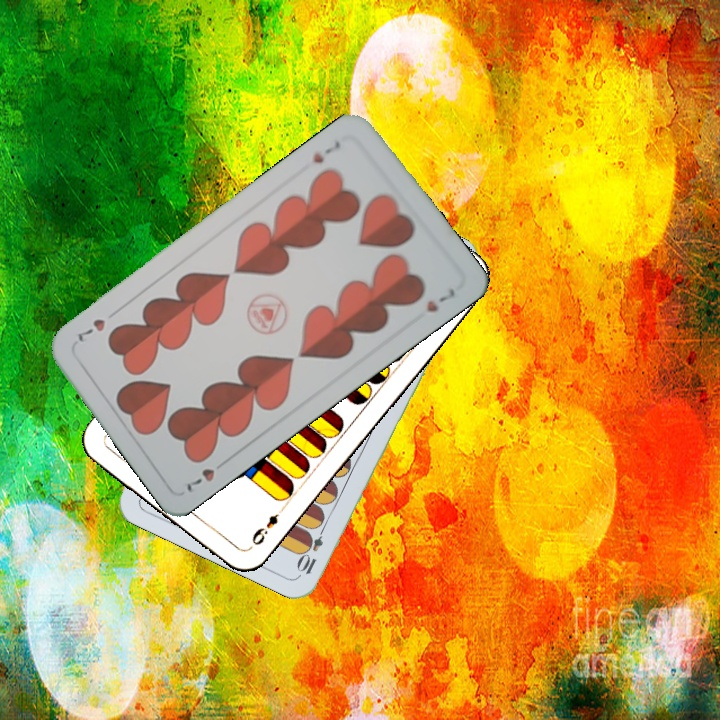E10: (295, 519, 329, 578)
E9: (247, 503, 288, 548)
H7: (180, 454, 232, 496), (308, 136, 344, 167)
